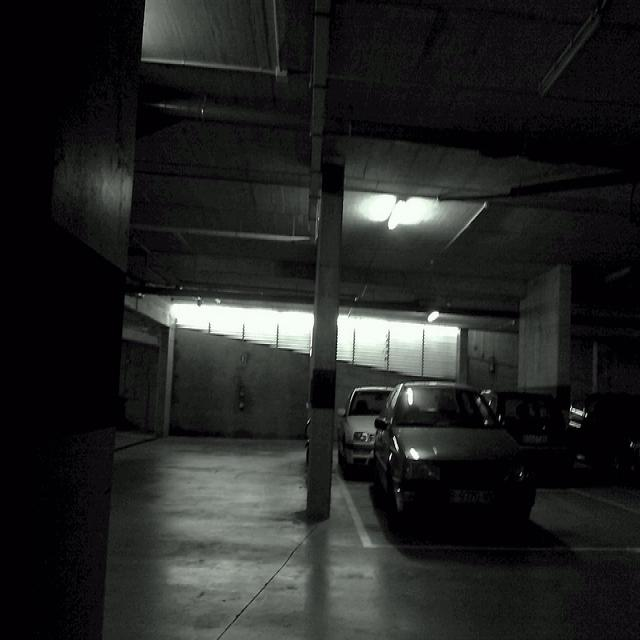Car: (373, 383, 539, 543)
